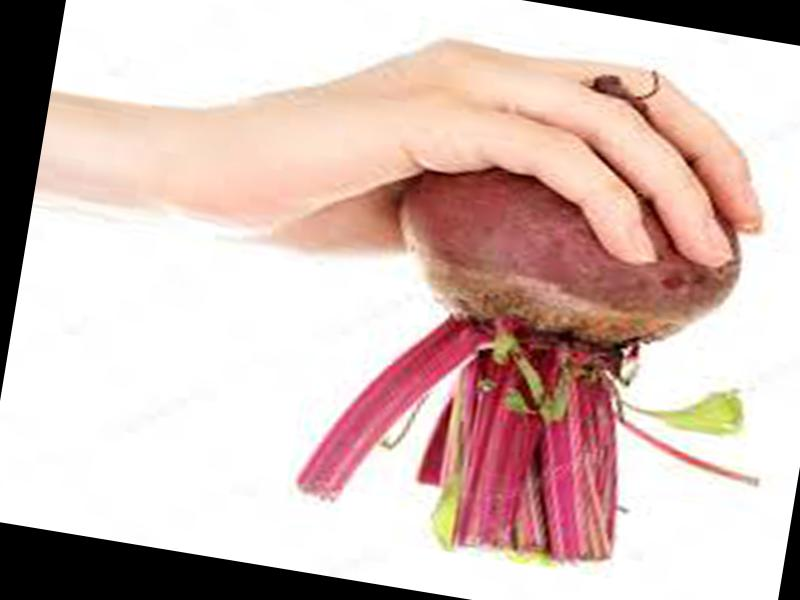Beet: (291, 32, 800, 596)
